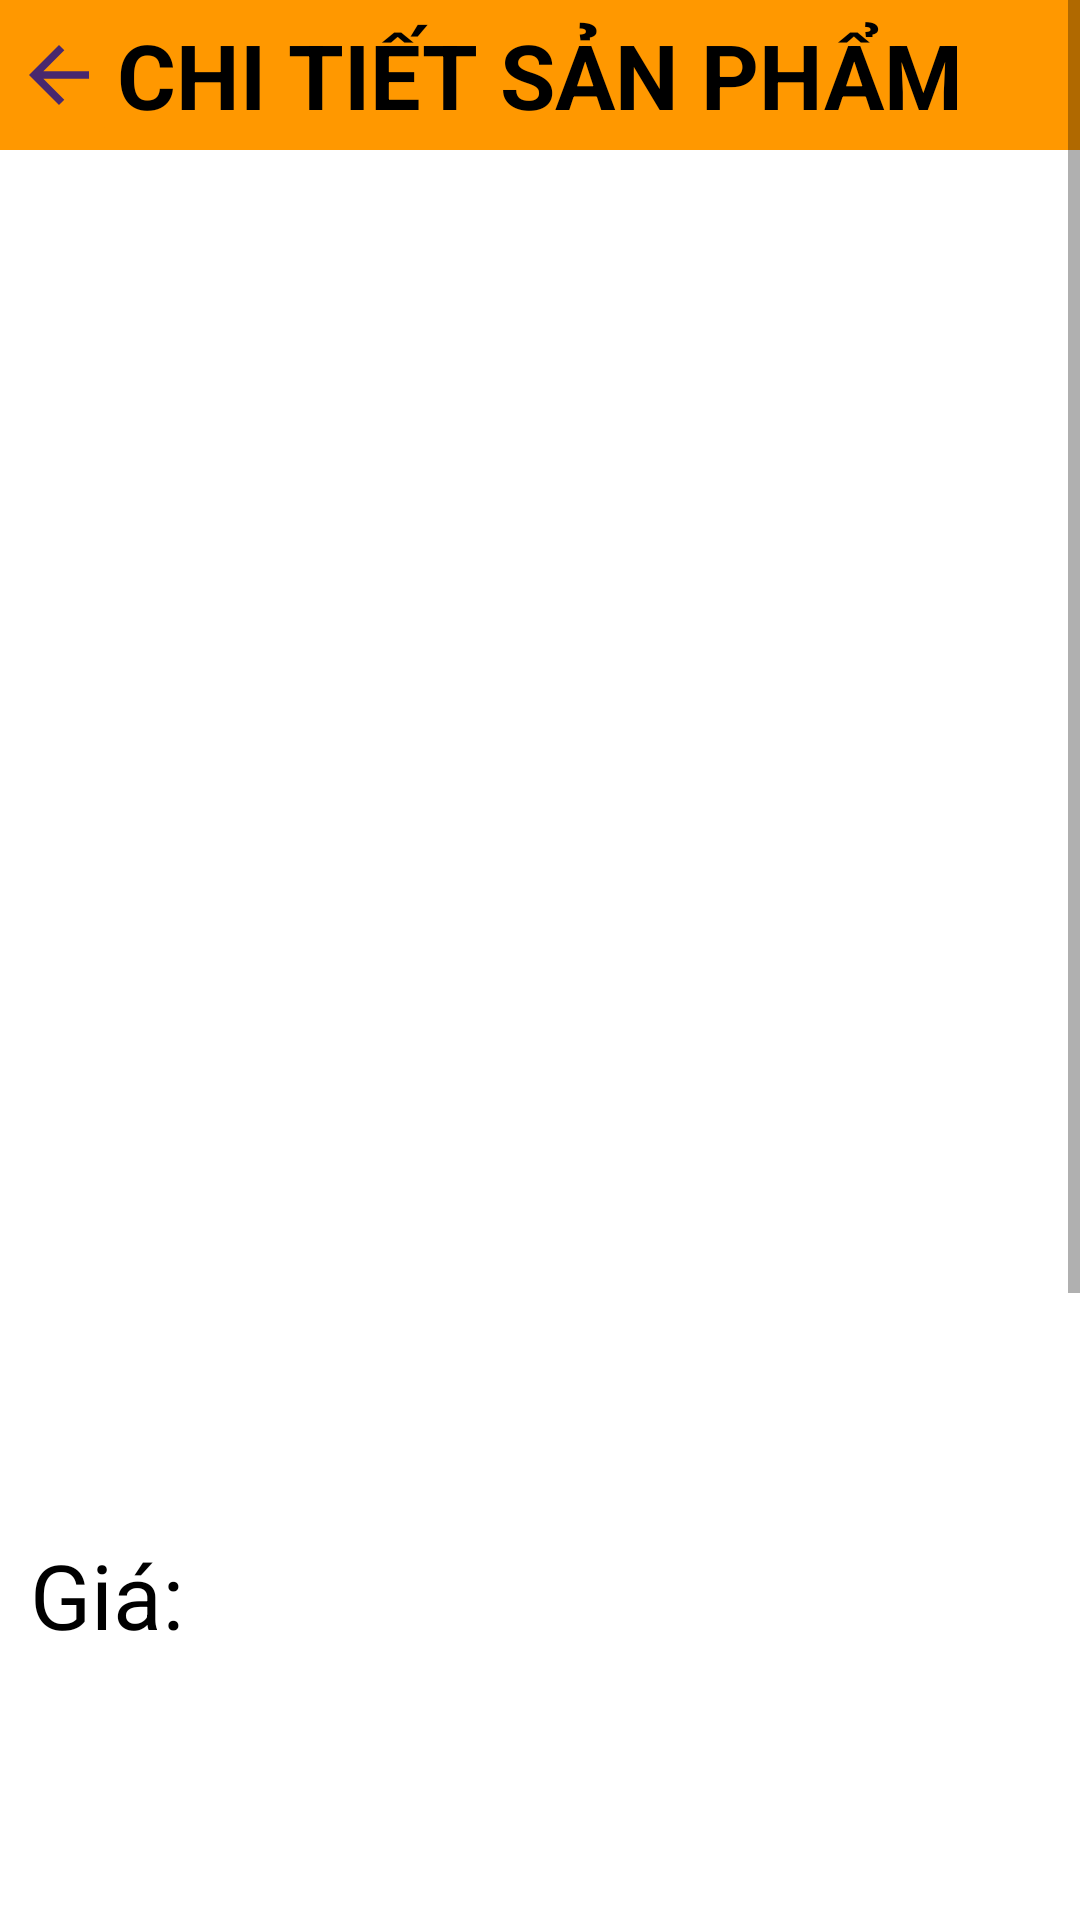

Point at icon controls on the screen. Image size 1080px x 1920px, points as (x=x, y=y).
arrow back: (x=59, y=75)
